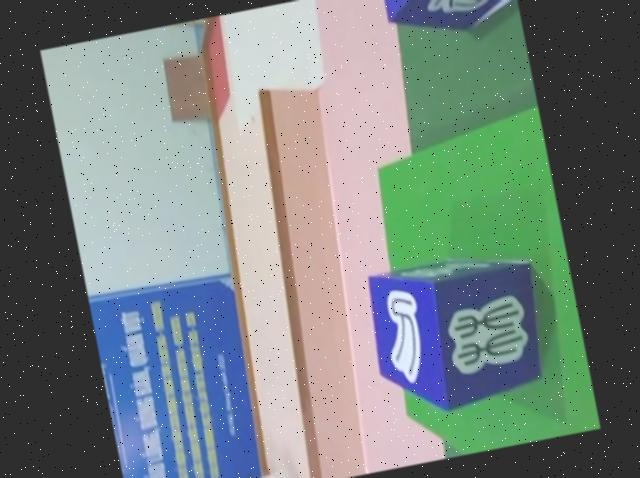R2 Fake Blue: (361, 241, 561, 423), (380, 0, 520, 44)
